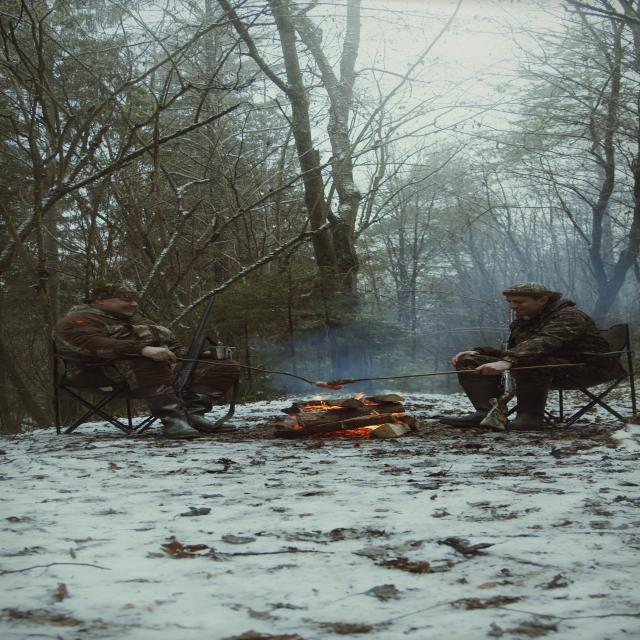Fire: (346, 413, 412, 437)
Smoke: (271, 194, 611, 396)
